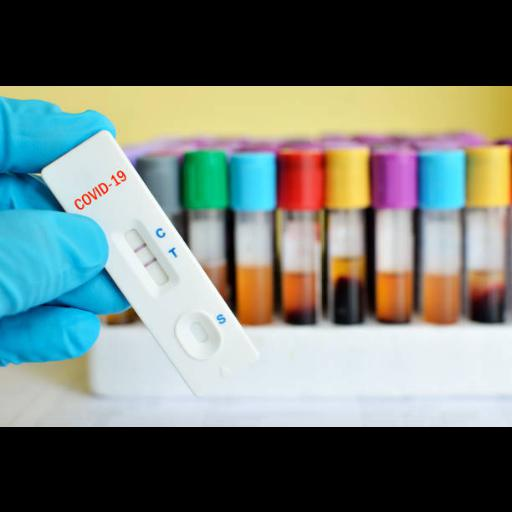Pos: (40, 126, 261, 399)
